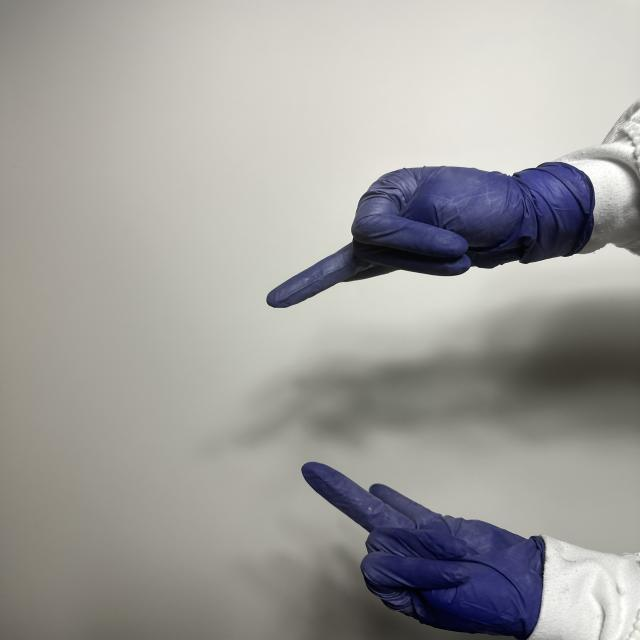gloves_contaminated: (267, 162, 599, 307), (302, 463, 546, 640)
